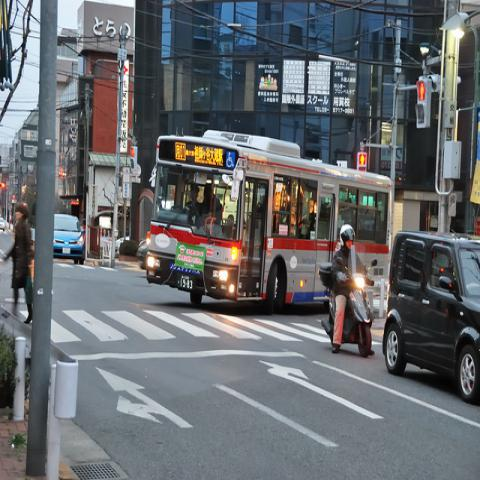bus: (140, 128, 392, 317)
car: (382, 230, 480, 405), (53, 214, 85, 264), (0, 218, 5, 231)
motorcycle: (318, 255, 378, 357)
